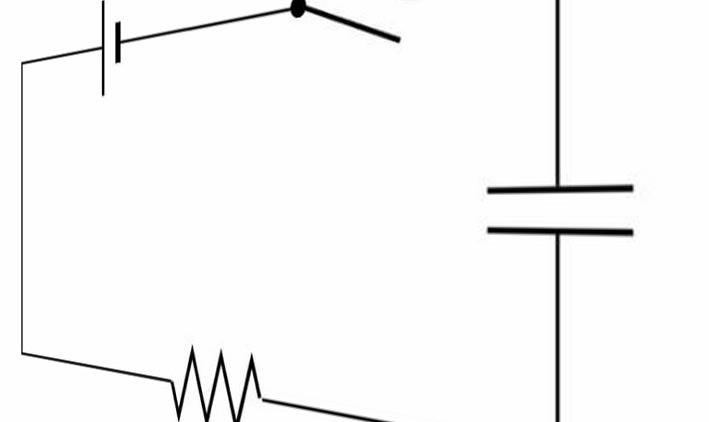Battery: (76, 4, 139, 108)
